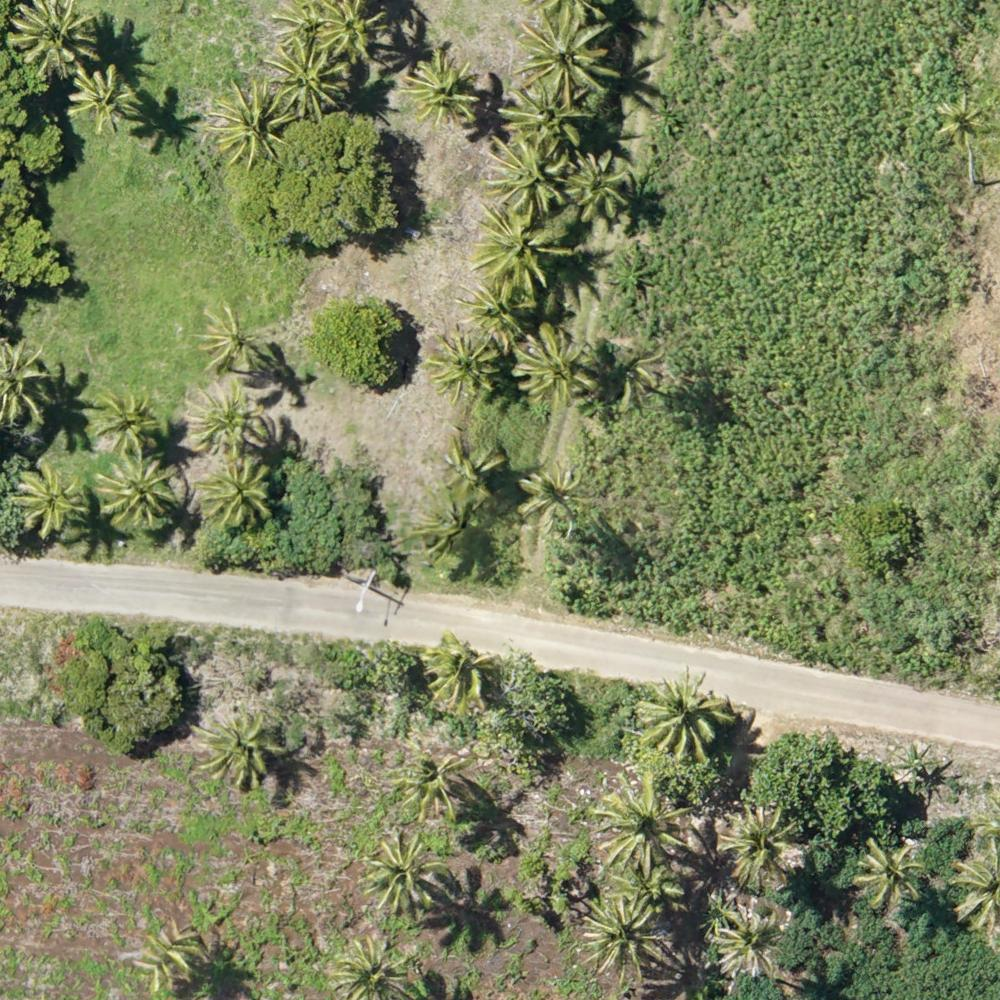Palm: (519, 11, 618, 106), (592, 777, 687, 871), (635, 672, 733, 758), (206, 77, 292, 163), (483, 208, 574, 288), (256, 36, 348, 113), (713, 805, 796, 888), (484, 132, 570, 212), (579, 895, 663, 975), (418, 631, 503, 710), (361, 838, 447, 916), (13, 1, 101, 75), (514, 323, 588, 405), (197, 711, 279, 785), (504, 81, 585, 154), (95, 458, 174, 532), (393, 746, 471, 819), (409, 51, 484, 125), (328, 936, 414, 999), (308, 1, 392, 65), (203, 455, 276, 528), (851, 835, 922, 908), (458, 274, 533, 343), (188, 385, 263, 454), (565, 152, 635, 225), (707, 908, 781, 976), (197, 305, 269, 374), (91, 391, 162, 460), (13, 463, 84, 532), (431, 328, 498, 397), (72, 67, 135, 128), (523, 462, 583, 523), (934, 92, 987, 147)
